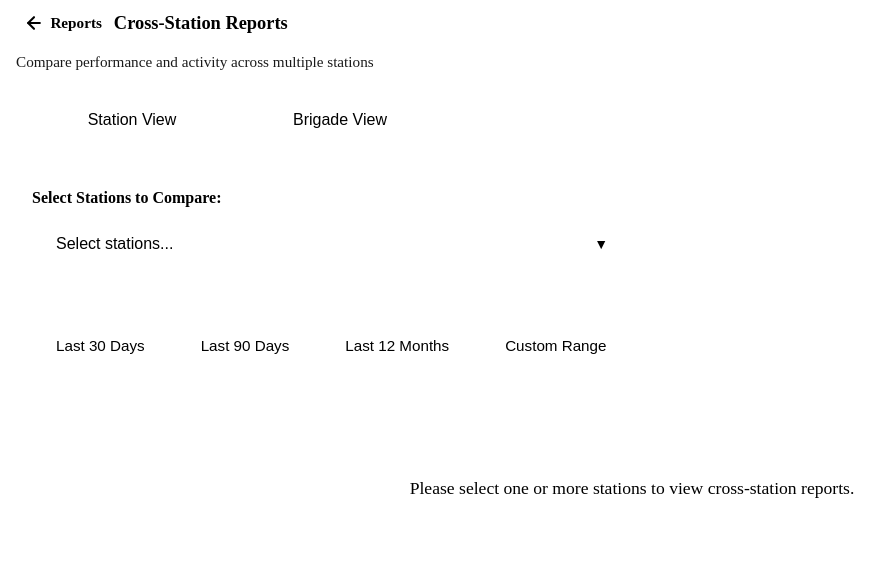
Test: CrossStationReportsPage › shows custom date inputs when custom range is selected
Click the button "Custom Range" at (556, 346), box [481,325,630,366]
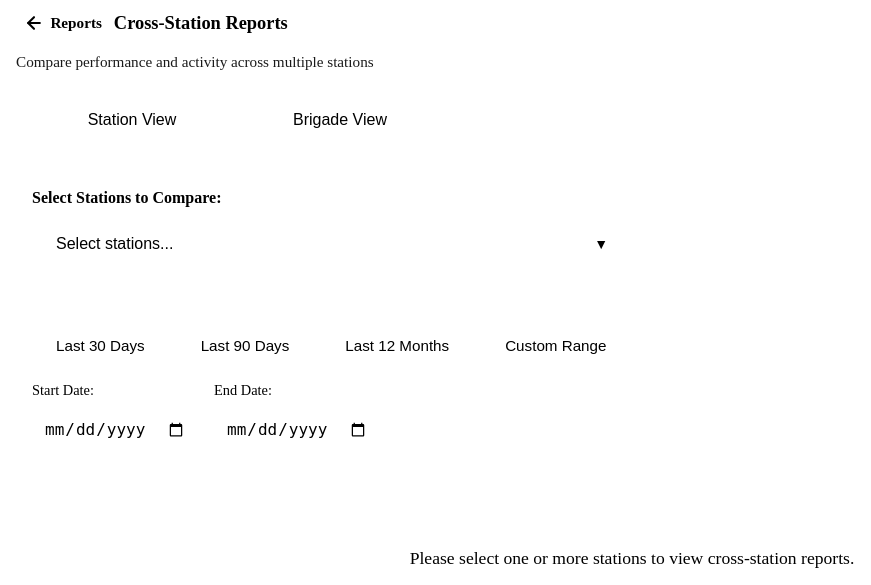
Expected: the date field labelled "Start Date:" is shown, [32,407,198,452]
Expected: the date field labelled "End Date:" is shown, [214,407,380,452]
